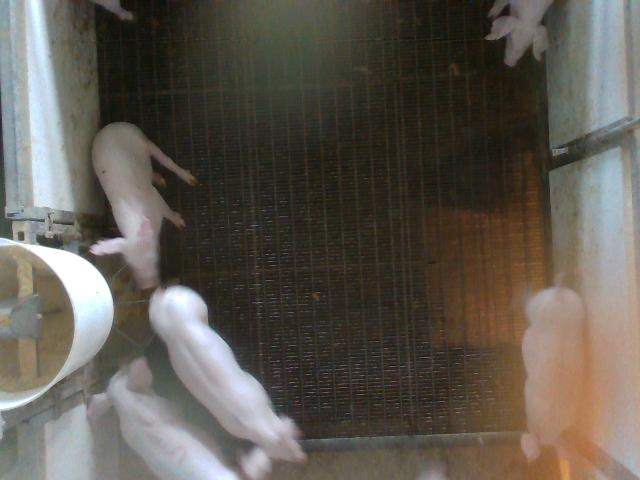pig-3: (88, 356, 239, 478)
pig-4: (521, 288, 586, 461)
